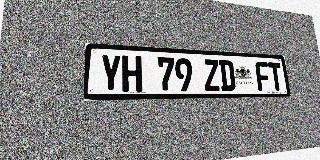7: (156, 57, 176, 92)
9: (175, 58, 193, 91)
D: (218, 60, 236, 91)
F: (255, 62, 271, 91)
H: (122, 55, 142, 92)
T: (268, 62, 284, 91)
Y: (100, 54, 121, 92)
Z: (203, 59, 221, 91)
